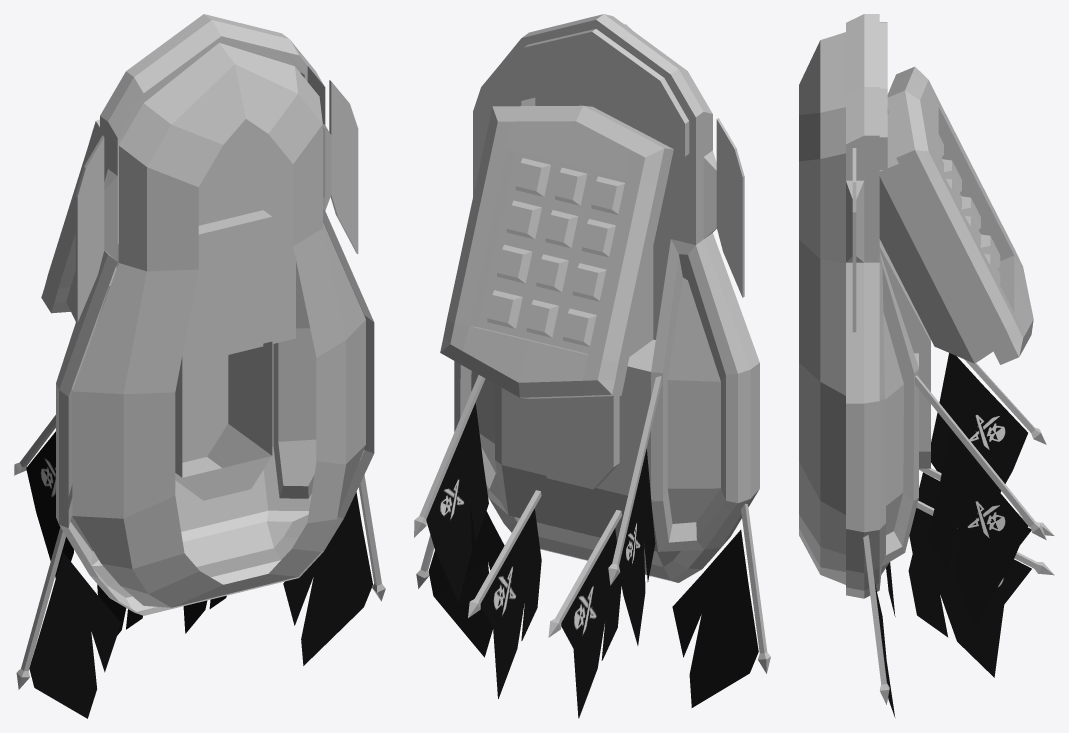
File: pirate_multi_my_5.fbx
3 renders of one model, left to right at view 1: azimuth 30°, elevation 25°; view 2: azimuth 150°, elevation 25°; view 3: azimuth 270°, elevation 25°, orthographic. The views are drawn at different scales.
Parts seen in each view (by area): view 1: Cube.359; view 2: Cube.359; view 3: Cube.359.
Boxes of the visible parts, <box> form: Cube.359: <box>14,14,385,718</box>; Cube.359: <box>414,14,770,718</box>; Cube.359: <box>799,14,1054,717</box>.
Bounding box in the file's own units: 418 × 751 × 266.
